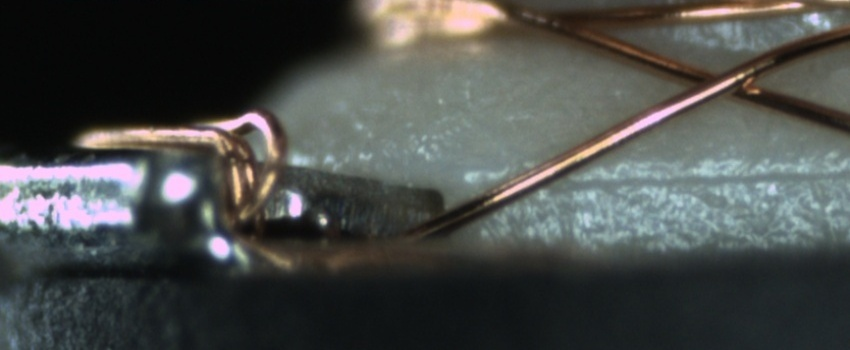CL: (668, 58, 782, 106)
DL: (477, 147, 849, 211)
TE: (66, 99, 291, 244)
